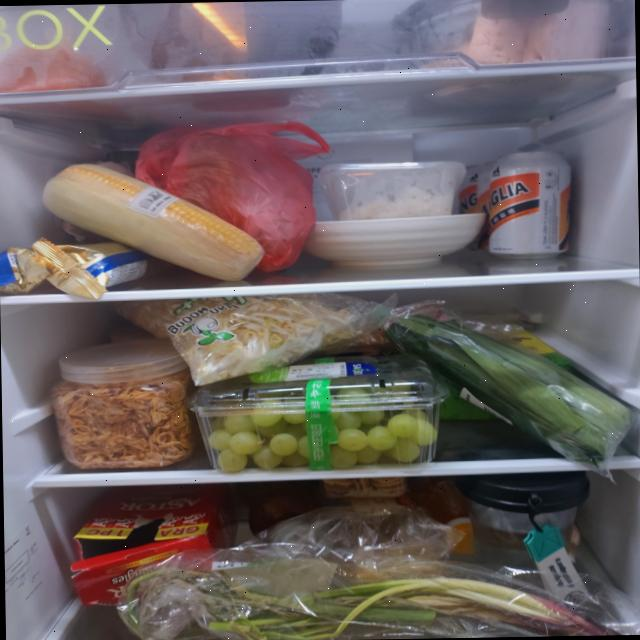bean_sprouts: (114, 292, 363, 389)
corn: (41, 160, 265, 285)
grape: (207, 373, 438, 472)
leafy_greens: (382, 308, 632, 469)
spring_onion: (122, 560, 622, 640)
unknown_bag: (134, 118, 333, 276)
